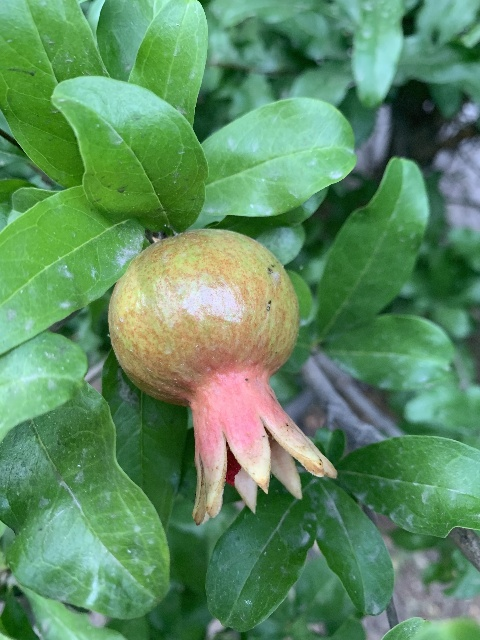early-fruit: (107, 227, 336, 525)
